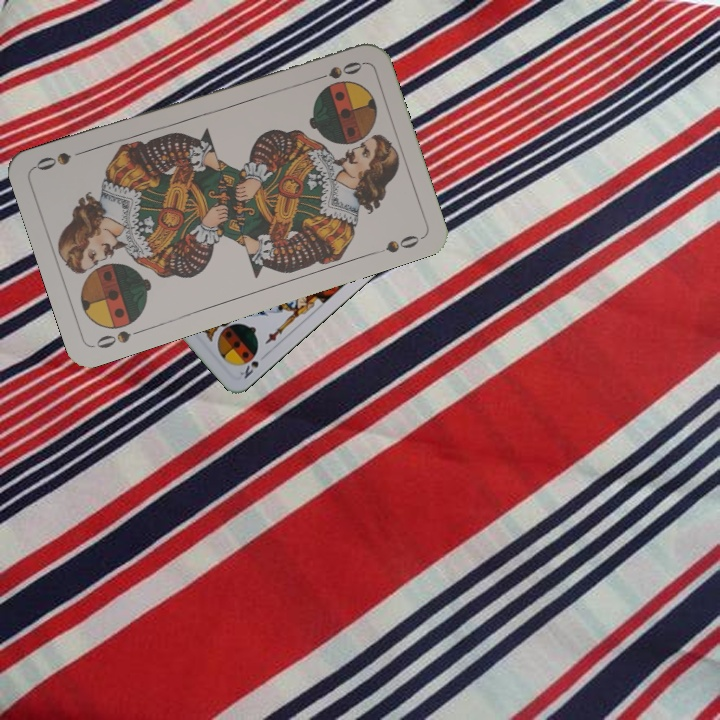SK: (235, 356, 261, 382)
SO: (308, 57, 365, 85), (92, 324, 148, 351)
